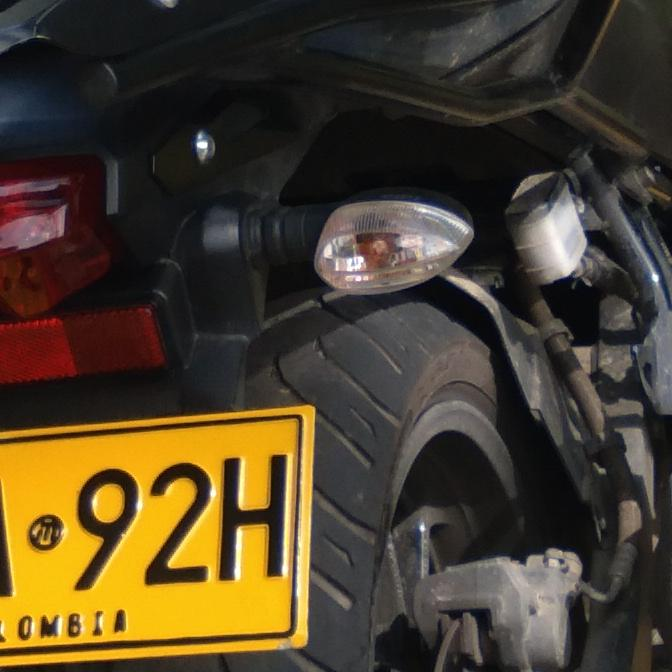plates: (0, 405, 318, 672)
